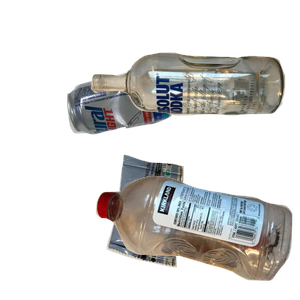glass: (88, 50, 300, 158)
metal: (65, 65, 231, 192)
plastic: (93, 173, 300, 300)
trash: (104, 152, 280, 300)
